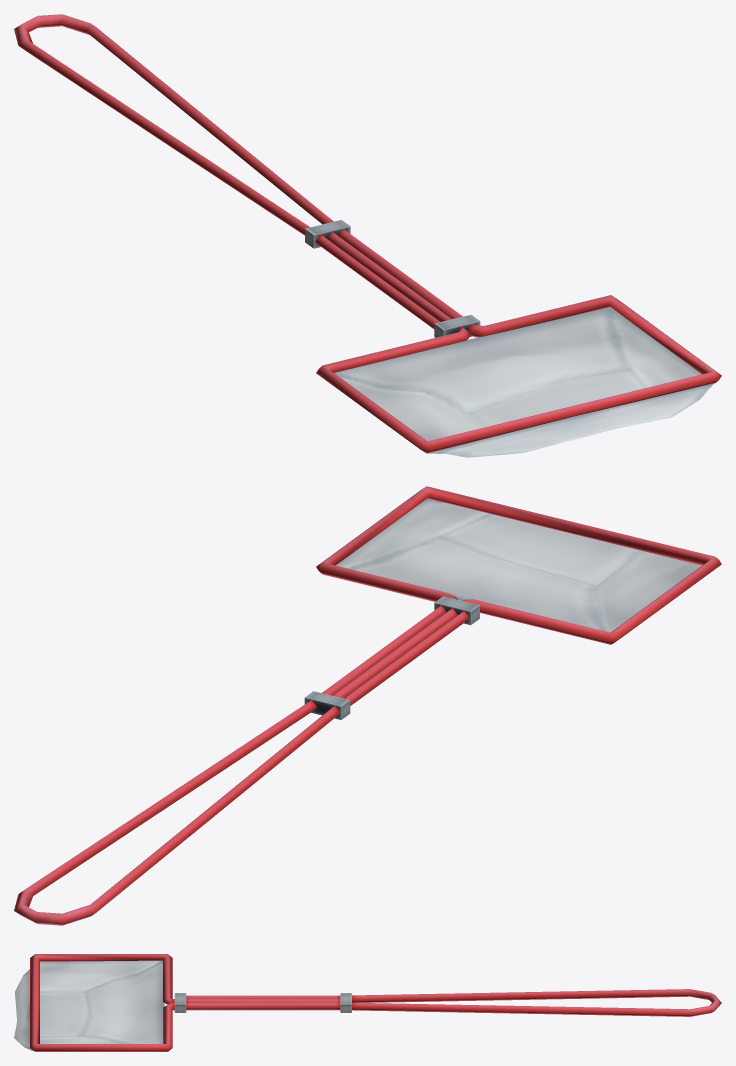
File: jsf_ScoopNet_02b.fbx
3 renders of one model, top to bottom at view 1: azimuth 30°, elevation 25°; view 2: azimuth 150°, elevation 25°; view 3: azimuth 270°, elevation 25°, orthographic. The views are drawn at different scales.
Visible parts, largest first — view 1: jsf_ScoopNet_02b; view 2: jsf_ScoopNet_02b; view 3: jsf_ScoopNet_02b.
Part boxes in pixels (x1,y1,x2,y2): jsf_ScoopNet_02b: (14, 14, 721, 457); jsf_ScoopNet_02b: (14, 486, 721, 925); jsf_ScoopNet_02b: (14, 954, 721, 1051).
Bounding box in the file's own units: 8.37 × 0.5416 × 26.6.
